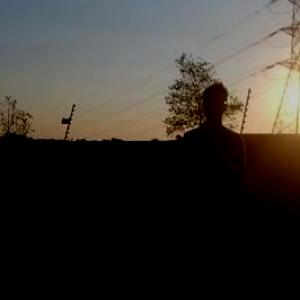follow: (172, 77, 248, 299)
